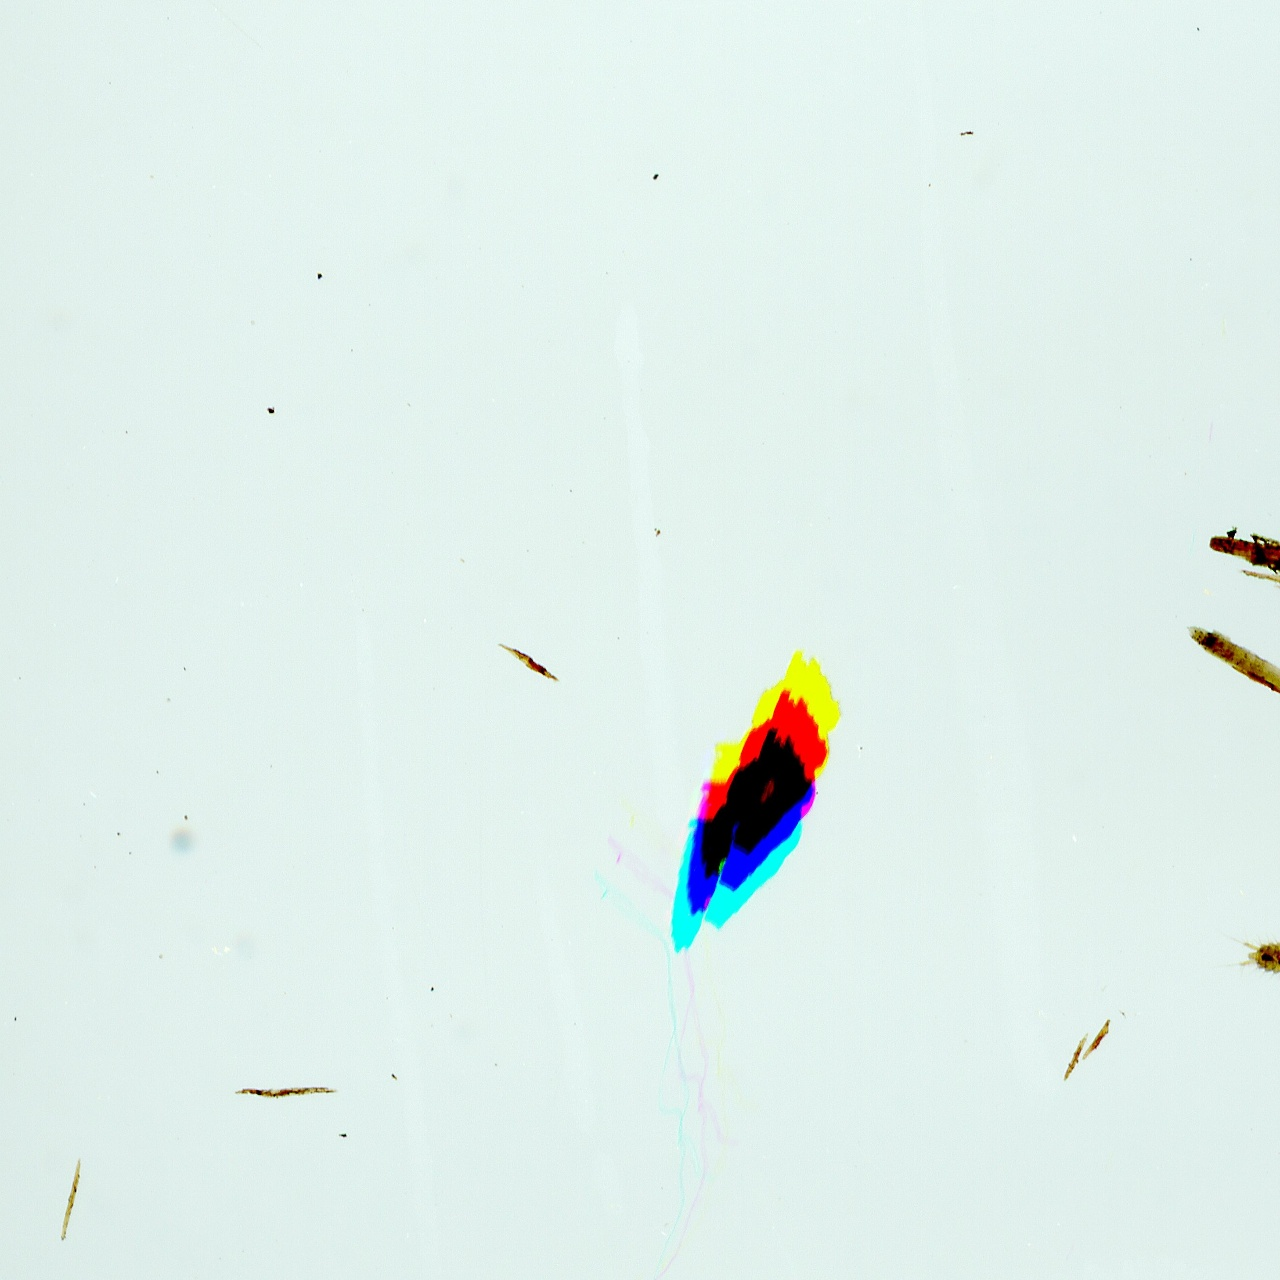arthropod: (1200, 901, 1280, 1032)
